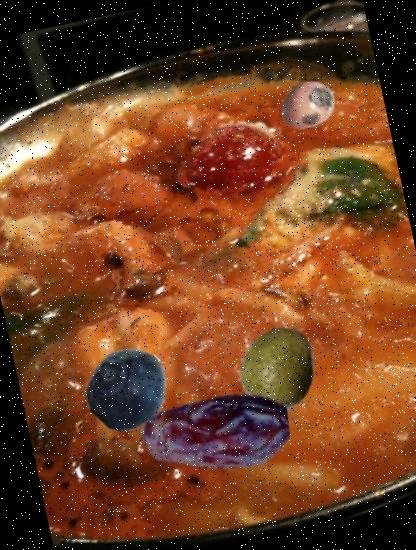Blueberry: (78, 338, 179, 439)
Dates: (128, 346, 302, 520)
Guava: (229, 317, 330, 418)
Kaki: (273, 69, 343, 139)
